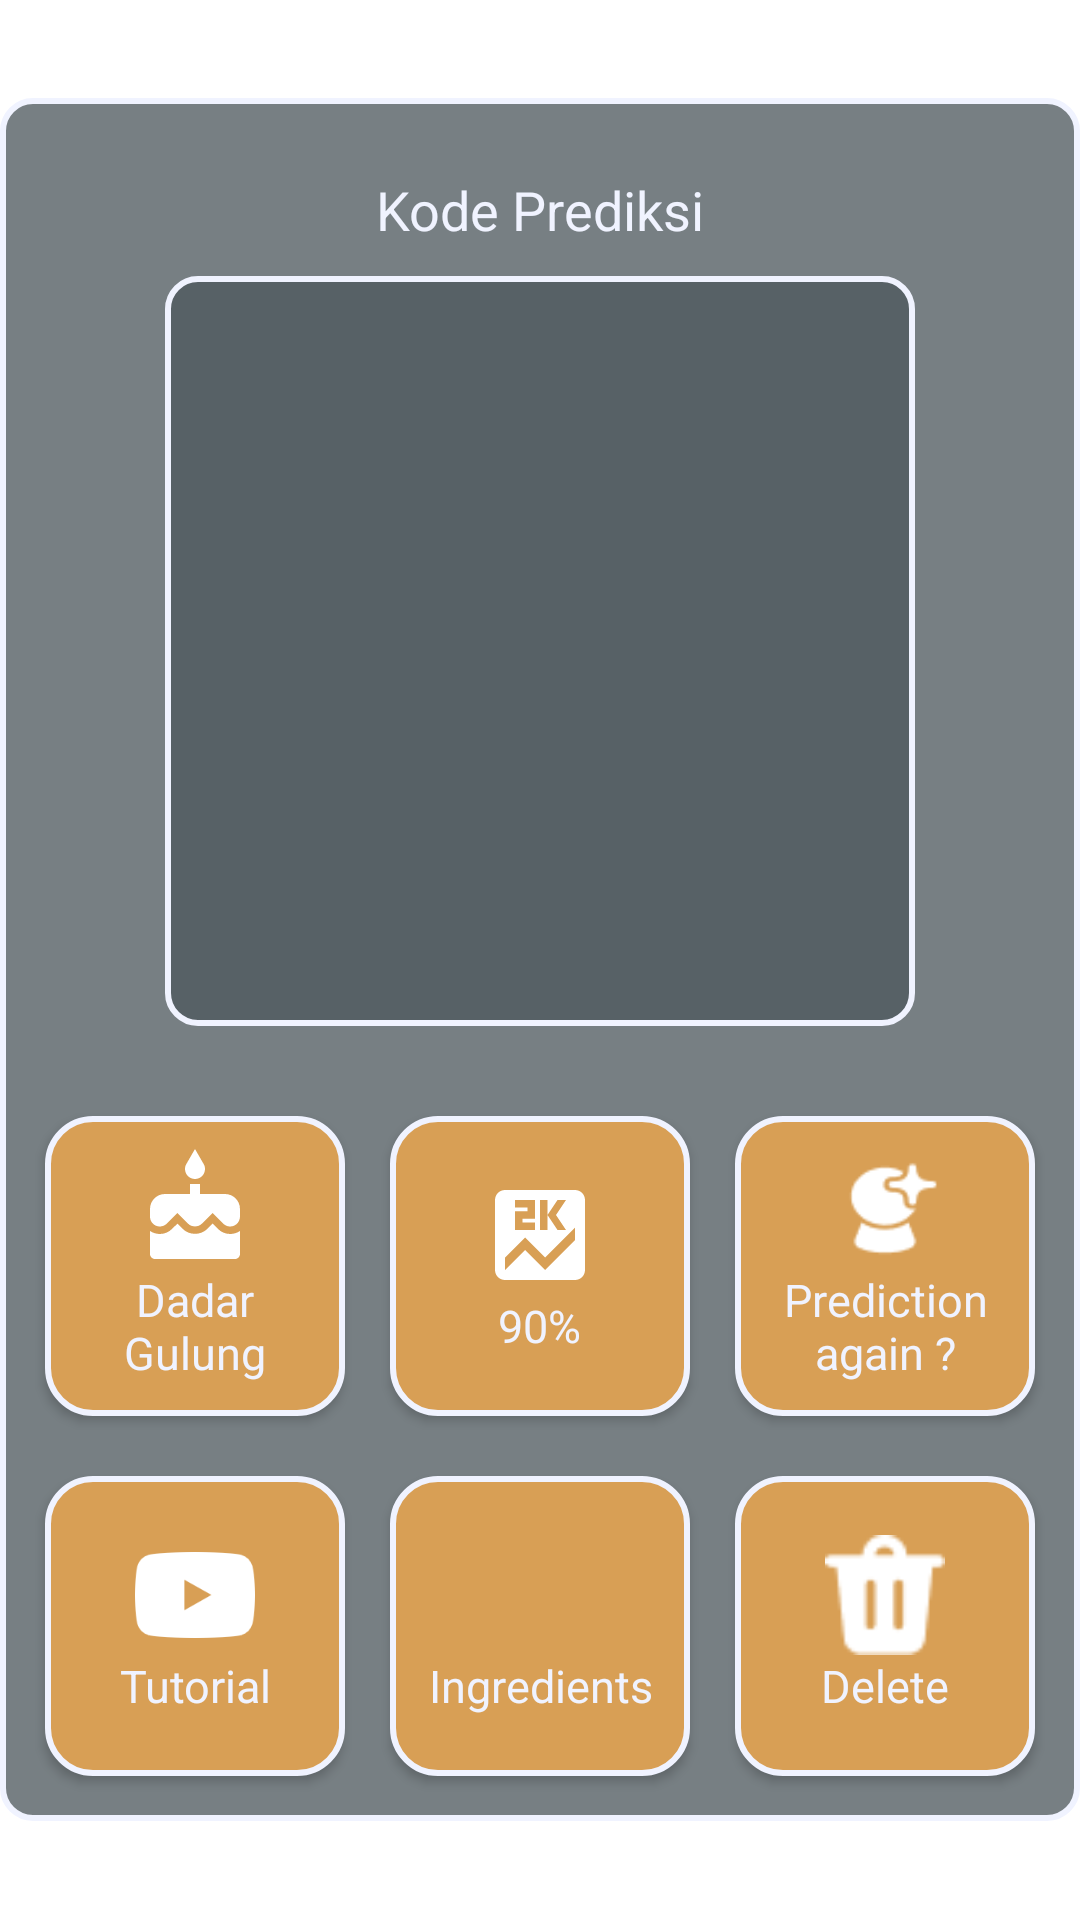

Where to tap for icons on this 1080x1920 app screen, as (x,y):
cake: (195,1204)
trash: (885,1595)
